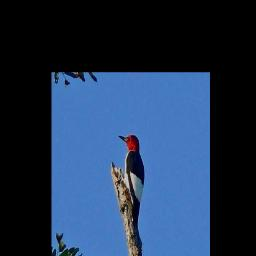Woodpecker: (115, 126, 151, 248)
